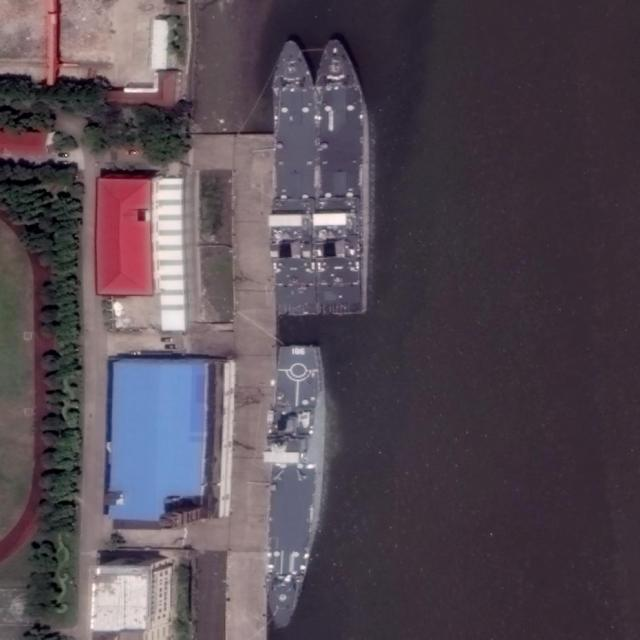Landing: (265, 345, 320, 630), (314, 39, 369, 312), (266, 39, 317, 314)
